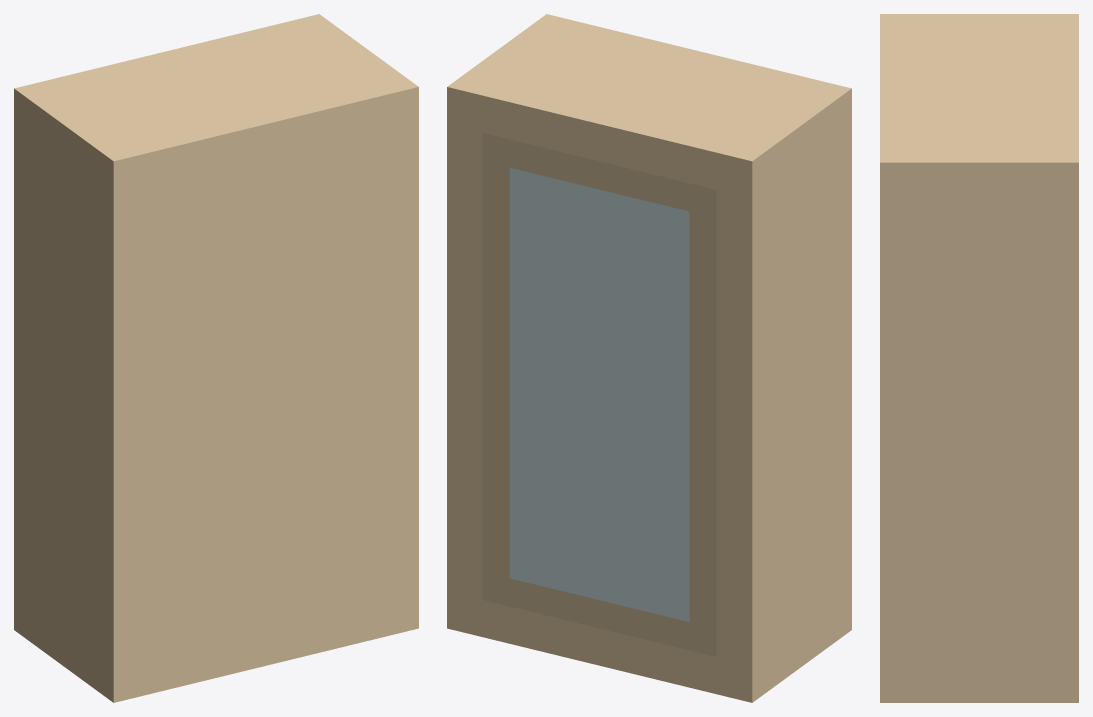
The model's file is bathroomCabinet.glb.
The picture shows the model from 3 angles, left to right: view 1: azimuth 30°, elevation 25°; view 2: azimuth 150°, elevation 25°; view 3: azimuth 270°, elevation 25°; orthographic projection.
Visible parts, largest first — view 1: bathroomCabinet; view 2: bathroomCabinet; view 3: bathroomCabinet.
Boxes of the visible parts, x1=… form: bathroomCabinet: x1=14, y1=14, x2=418, y2=702; bathroomCabinet: x1=447, y1=14, x2=851, y2=702; bathroomCabinet: x1=880, y1=14, x2=1078, y2=702.
Bounding box in the file's own units: 2.3 × 3.9 × 1.3.
